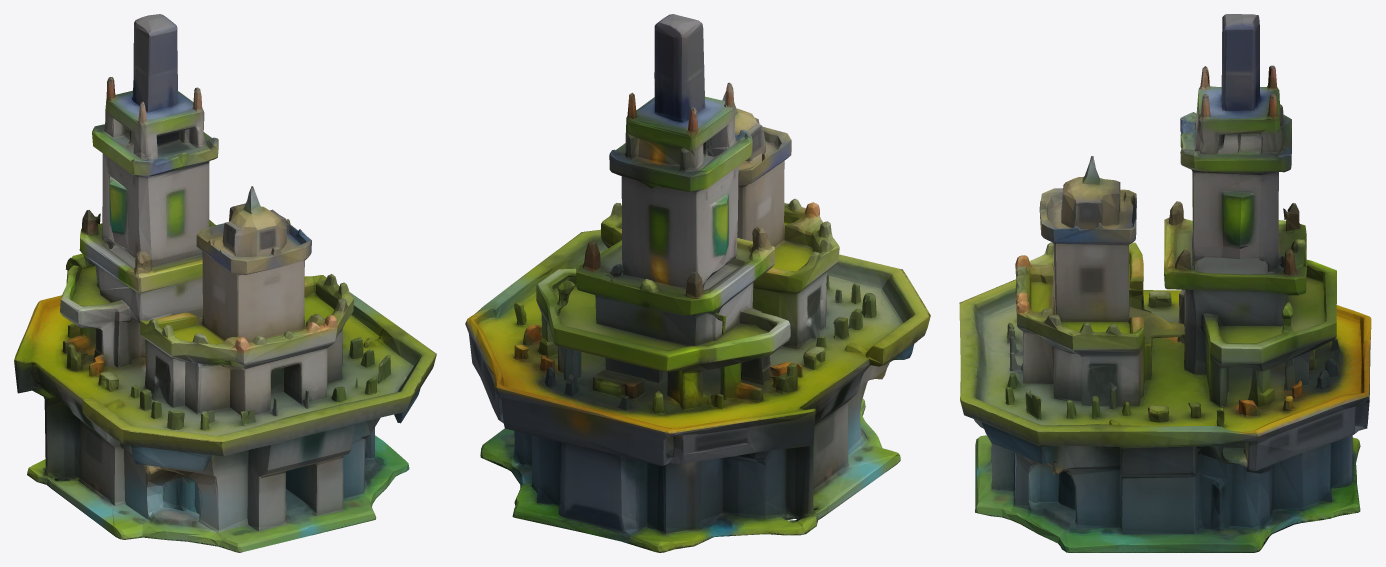
Rendered from building-ai.glb.
3 views of the same model, side by side, from view 1: azimuth 30°, elevation 25°; view 2: azimuth 150°, elevation 25°; view 3: azimuth 270°, elevation 25° (orthographic). The views are drawn at different scales.
Parts seen in each view (by area): view 1: geometry_0; view 2: geometry_0; view 3: geometry_0.
Part boxes in pixels (x1,y1,x2,y2): geometry_0: (14,14,436,552); geometry_0: (465,14,930,552); geometry_0: (959,14,1371,552).
Bounding box in the file's own units: 0.7712 × 0.9993 × 0.8313.
1 material, 1 textured.
